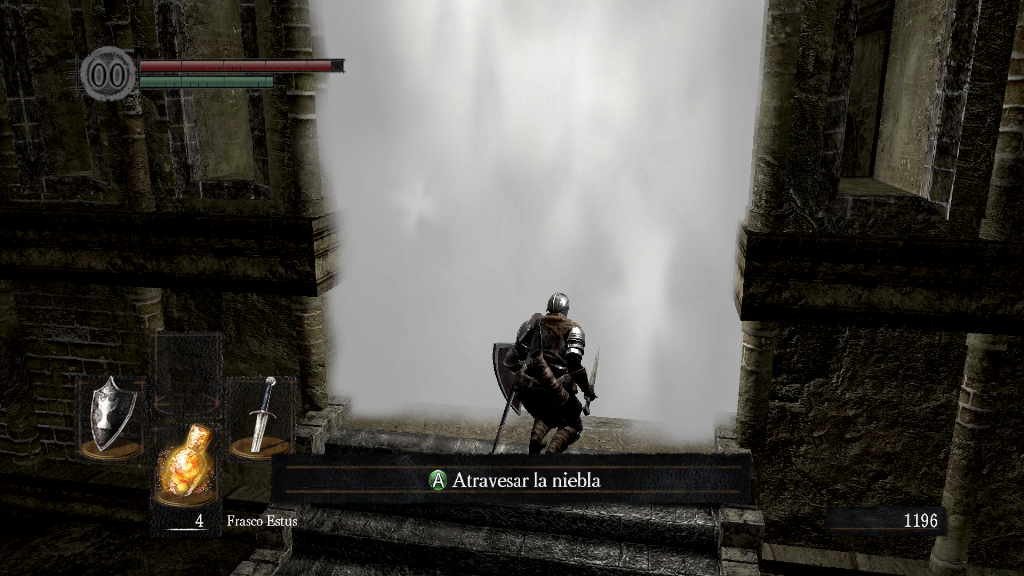dialogBox: (271, 453, 752, 503)
health: (138, 58, 343, 71)
humanity: (80, 45, 136, 102)
player: (494, 292, 601, 459)
souls: (825, 506, 945, 536)
stamina: (138, 74, 274, 88)
